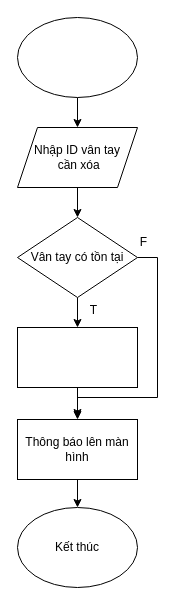
The diagram is 183 pixels wide and 605 high, and some of its shapes have lost their labels. Here are the shapes that lost their labels. From the top down, the centre of each, then its label:
the point at 77,57: Bắt đầu
the point at 77,357: Xóa vân tay
